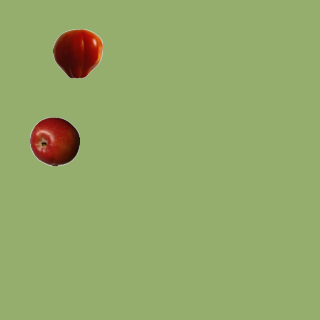Apple Braeburn: (29, 116, 79, 166)
Tomato 1: (52, 28, 102, 78)
